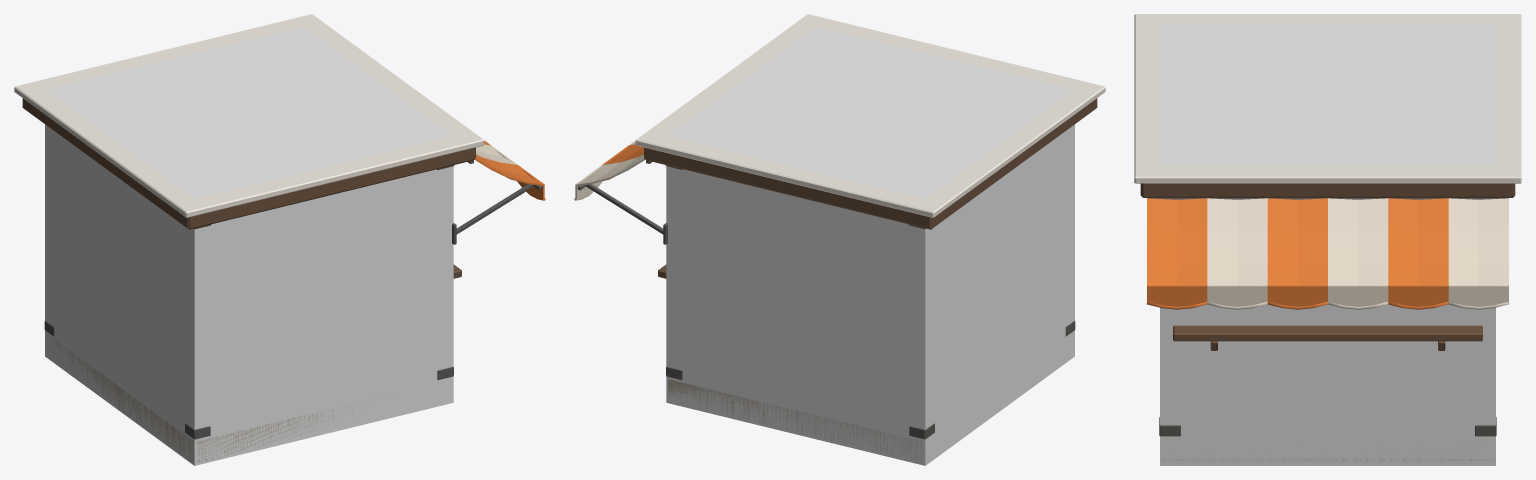
3 views of the same model, side by side, from view 1: azimuth 30°, elevation 25°; view 2: azimuth 150°, elevation 25°; view 3: azimuth 270°, elevation 25° (orthographic). The views are drawn at different scales.
Visible parts, largest first — view 1: col_a_body, T10_a; view 2: col_a_body, T10_a; view 3: col_a_body, T10_a.
Part boxes in pixels (x1,y1,x2,y2): col_a_body: (45, 26, 453, 465); T10_a: (14, 14, 545, 462); col_a_body: (666, 26, 1074, 465); T10_a: (574, 14, 1105, 462); col_a_body: (1160, 24, 1495, 465); T10_a: (1134, 14, 1521, 462).
Bounding box in the file's own units: 3.67 × 2.56 × 3.
